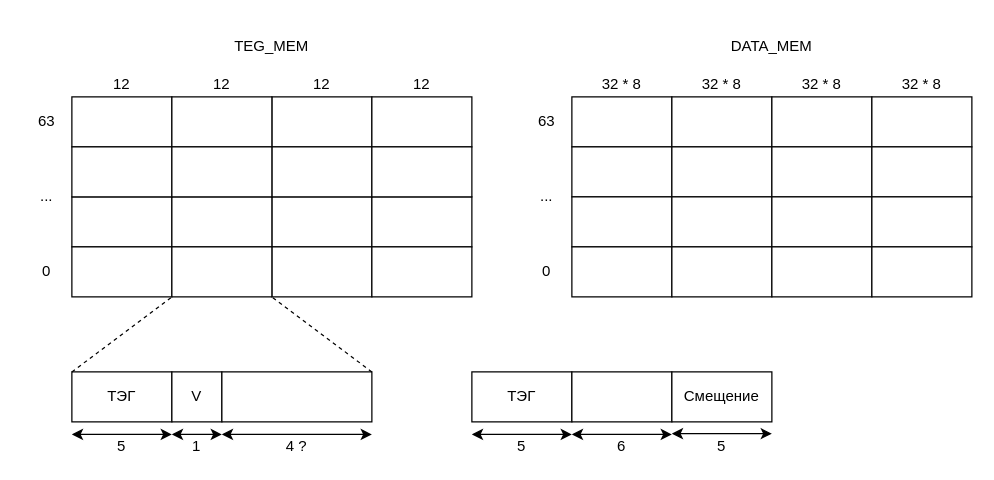
Some shapes in this 994 by 480 pixel diagram are drawn without their labels. Each missing label, with the centre of its shape:
"LFU (Счётчик)" belongs at (296,396).
"Индекс" belongs at (621,396).
